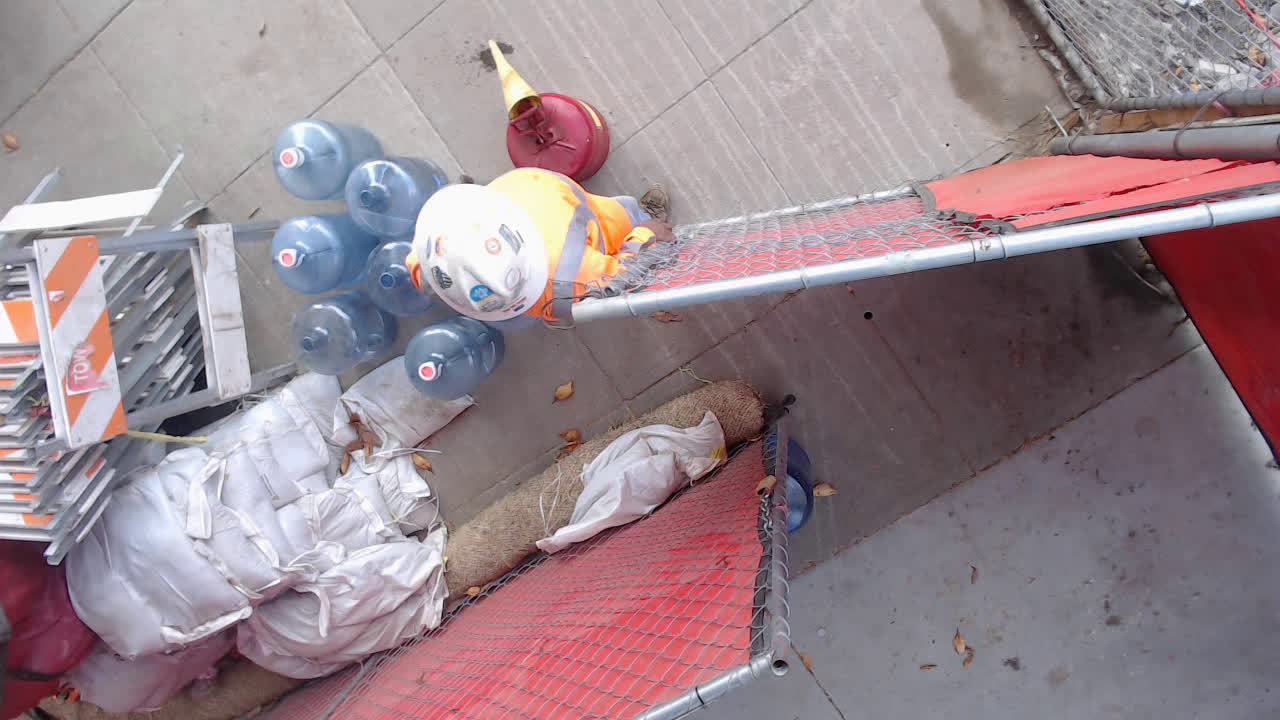hardhat: (414, 184, 550, 322)
safetyvest: (478, 165, 624, 333)
